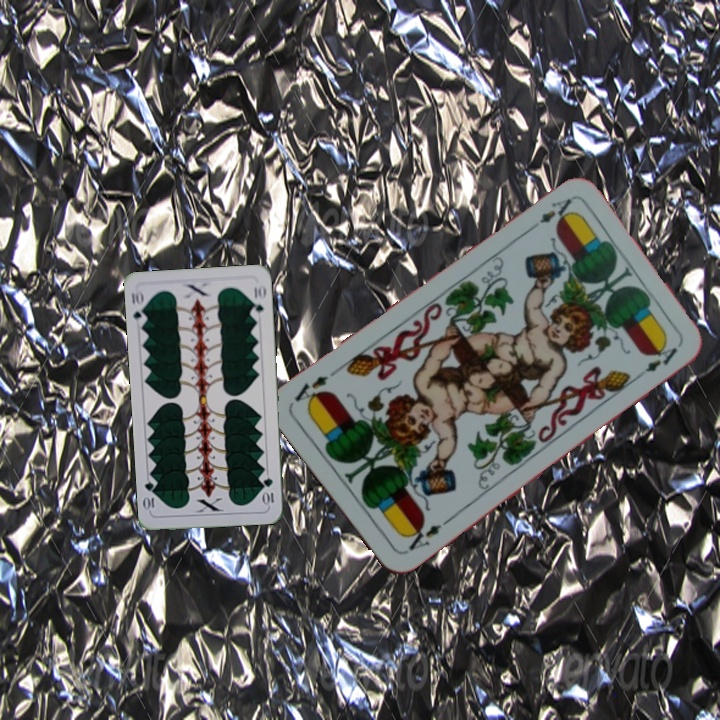EA: (524, 194, 576, 234), (399, 520, 445, 557)
G10: (127, 286, 149, 327), (260, 474, 276, 508)
